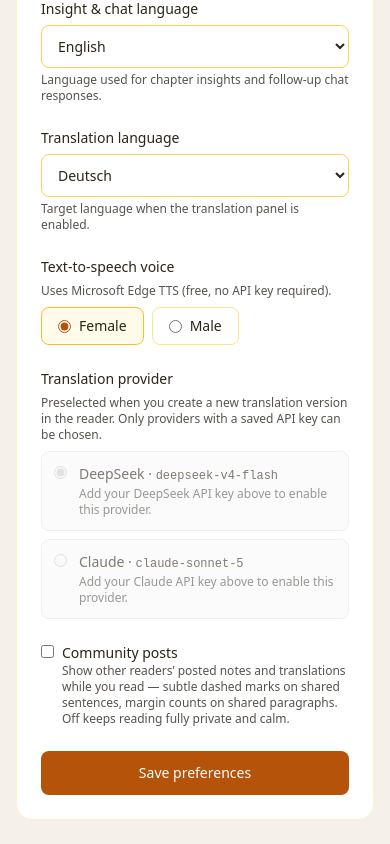
ProfilePage — updatePref resets saved state › 'Saved!' button reverts to 'Save preferences' after preference change
(page scrolled)
# Save once so button shows "Saved!"
Click the button "Save preferences" at (195, 773), box [41,751,349,795]
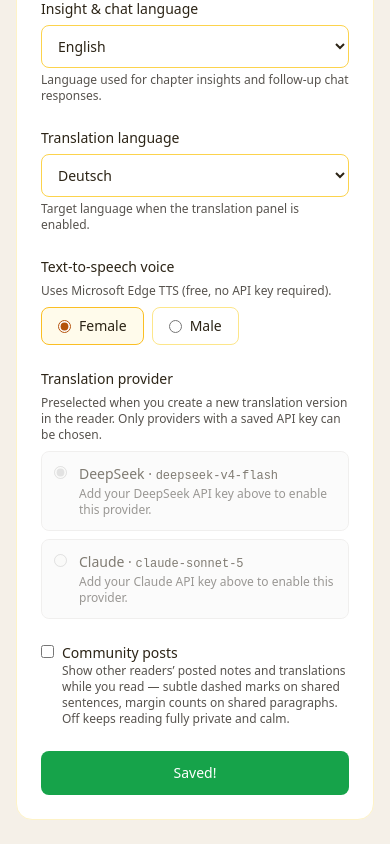
Check: the button "Saved!" is shown, box [41,751,349,795]
Select "Français" in the dropdown labelled "Insight & chat language" at (195, 46), box [41,25,349,68]
(page scrolled)
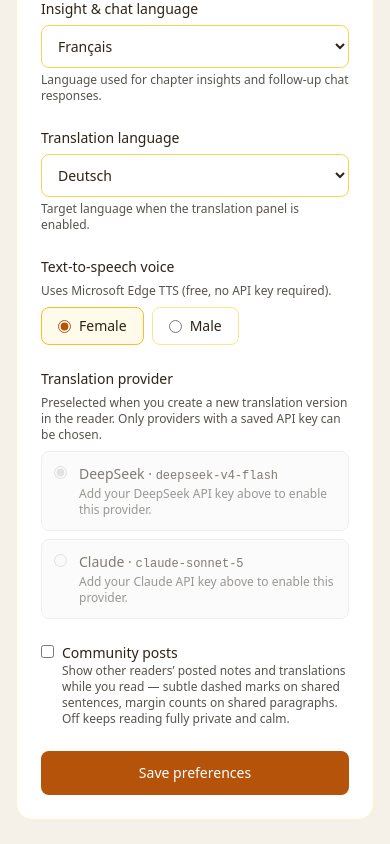
Check: the button "Save preferences" is shown, box [41,751,349,795]
